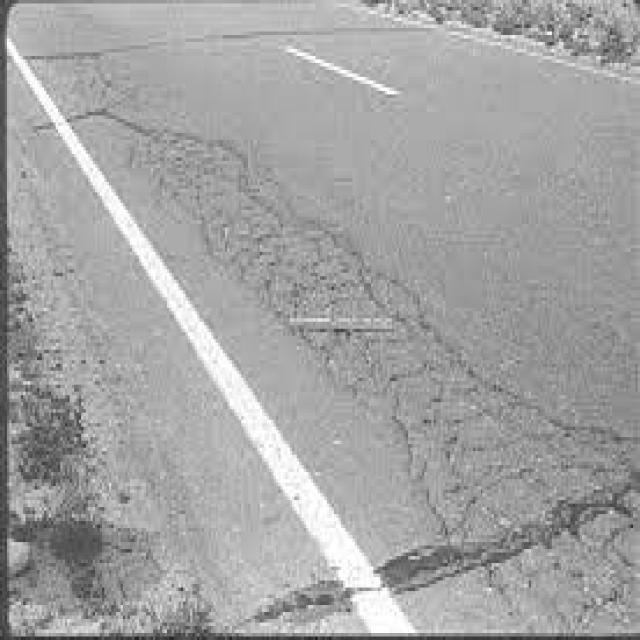Pothole: (3, 117, 588, 640)
